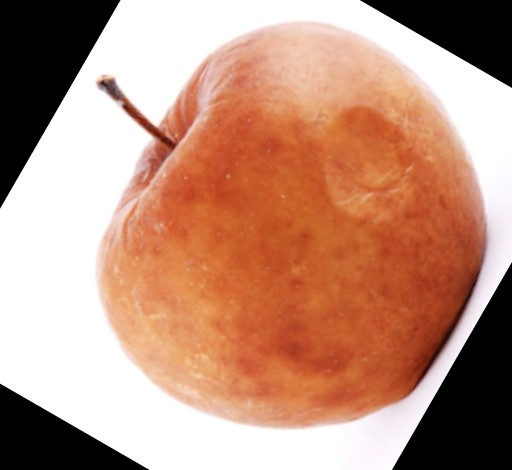rotten_apple: (98, 21, 485, 426)
